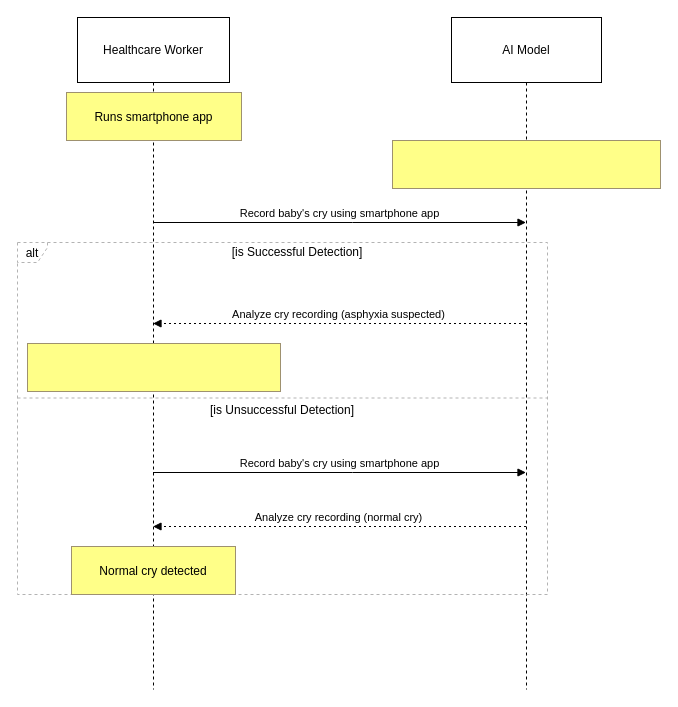
This 678x707 diagram has some shape labels left out. Here are the shapes that lost their labels. From the top down, the centre of each, then its label:
At [526,164]: "Trained to detect asphyxia from cry".
At [153,367]: "Alert received, potential asphyxia".
